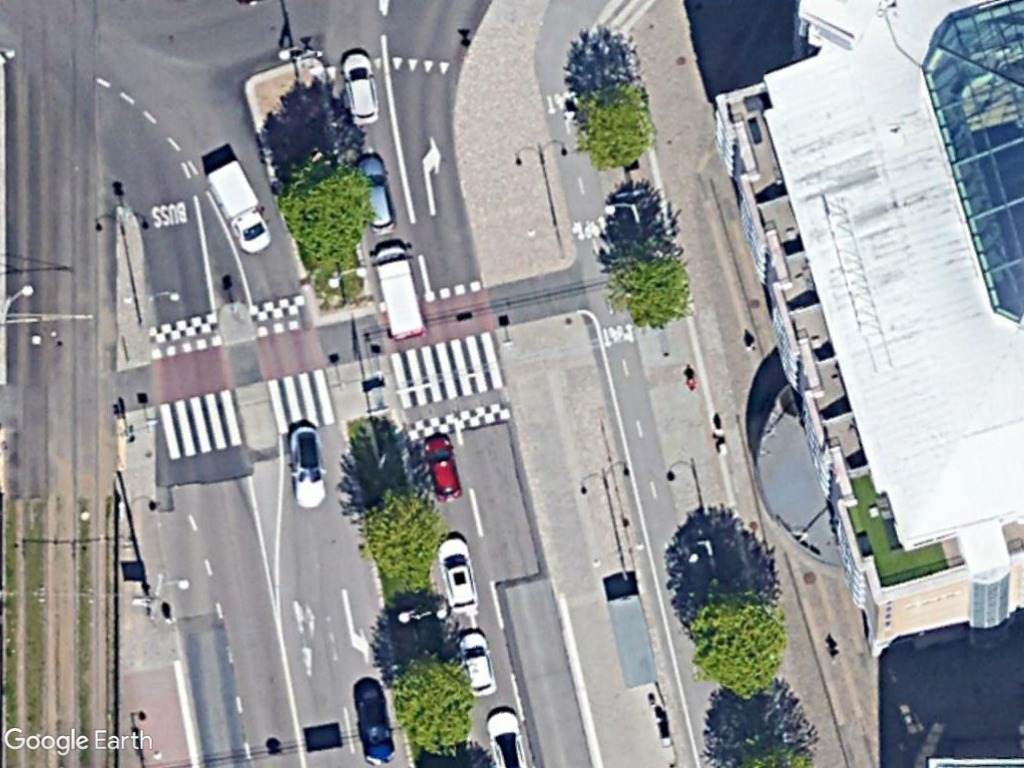car: (285, 419, 336, 515), (353, 675, 402, 768), (432, 528, 482, 617), (339, 47, 384, 129), (421, 429, 467, 507), (453, 623, 498, 701)
truck: (202, 152, 278, 260), (369, 239, 430, 346)
